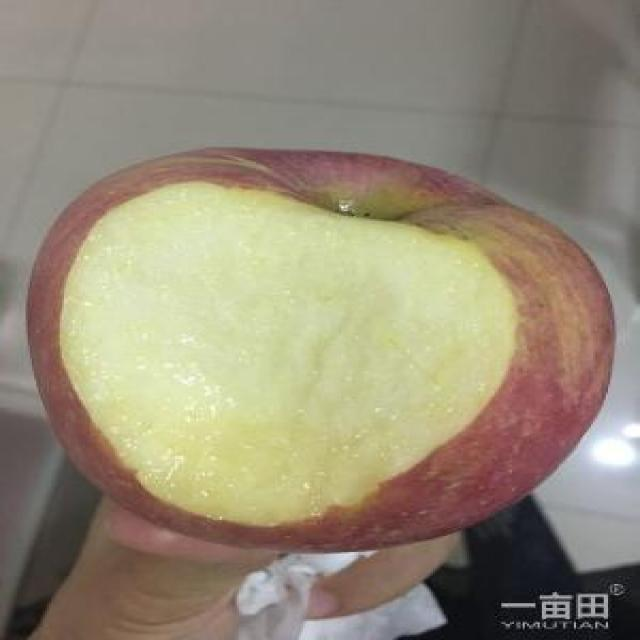Apple: (22, 142, 615, 562)
